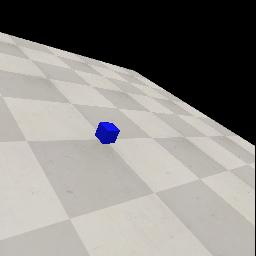box: (95, 122, 120, 144)
